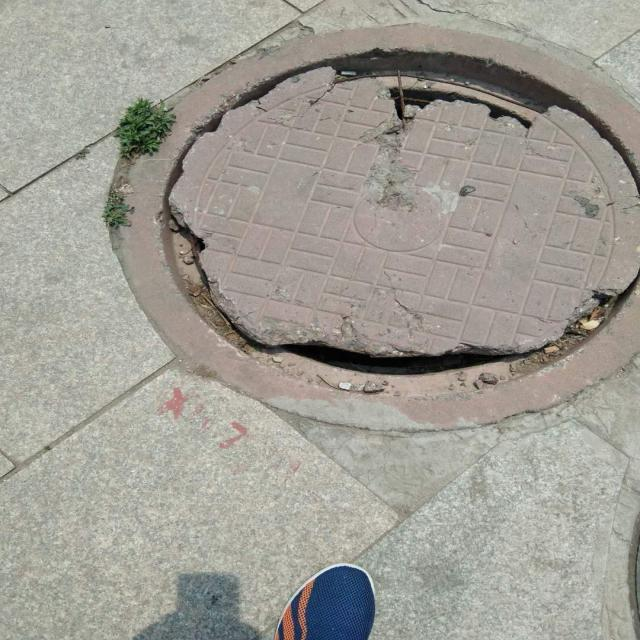Faulty: (126, 24, 640, 428)
